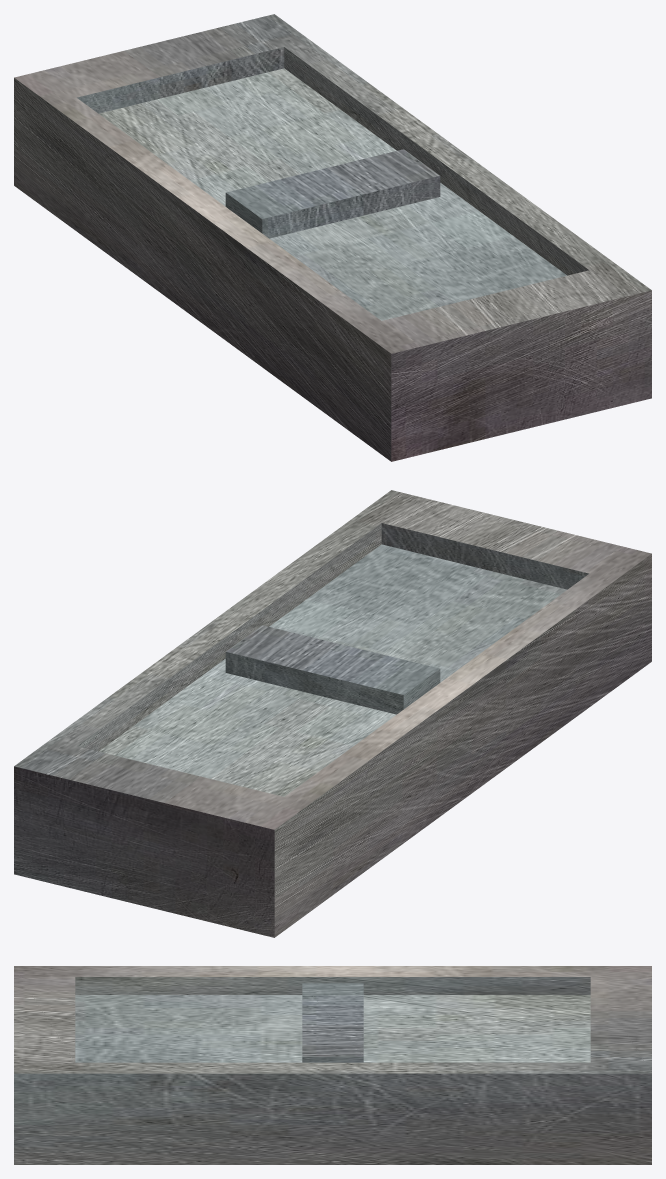
File: Caja.fbx
3 renders of one model, top to bottom at view 1: azimuth 30°, elevation 25°; view 2: azimuth 150°, elevation 25°; view 3: azimuth 270°, elevation 25°, orthographic. The views are drawn at different scales.
Visible parts, largest first — view 1: pCube2; view 2: pCube2; view 3: pCube2.
Boxes of the visible parts, x1,y1,x2,y2 form: pCube2: (14,14,651,461); pCube2: (14,490,651,937); pCube2: (14,966,651,1164).
Bounding box in the file's own units: 0.7843 × 0.3108 × 1.97.
